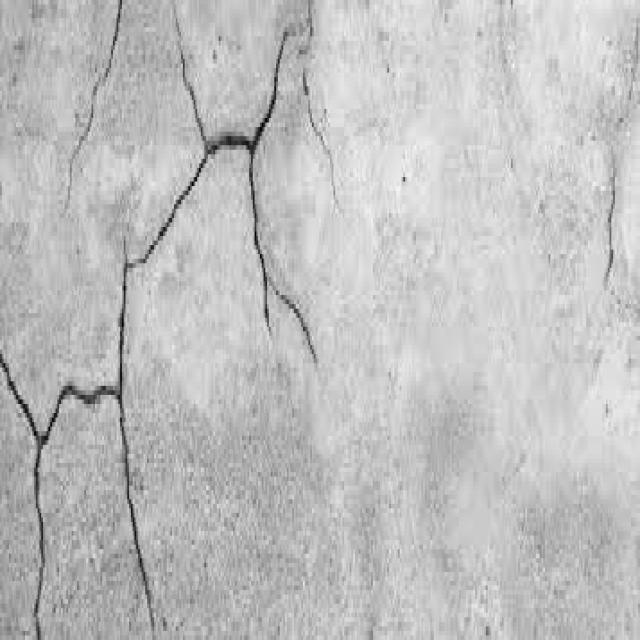crack: (0, 32, 311, 639)
